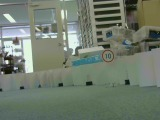speed_10: (101, 49, 115, 63)
